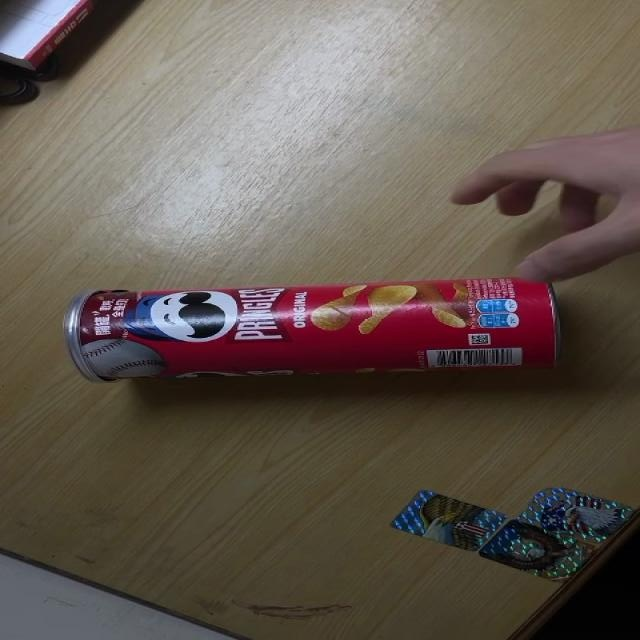Pringles: (62, 276, 564, 384)
